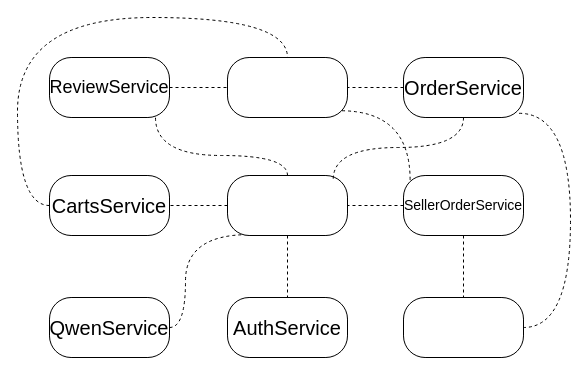
Image size: 588x375. Some labels were removed from this diagram. The shapes that lost their labels are listed below. From the top down, each one's centre as x and y in pixels, then its label:
At pixel 287 87: "ProductService".
At pixel 287 205: "UserService".
At pixel 463 327: "PaymentService".
